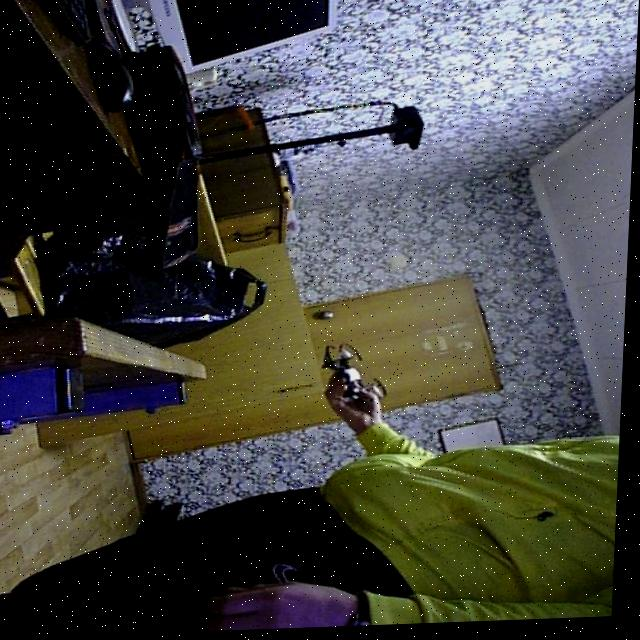drone: (316, 333, 399, 418)
